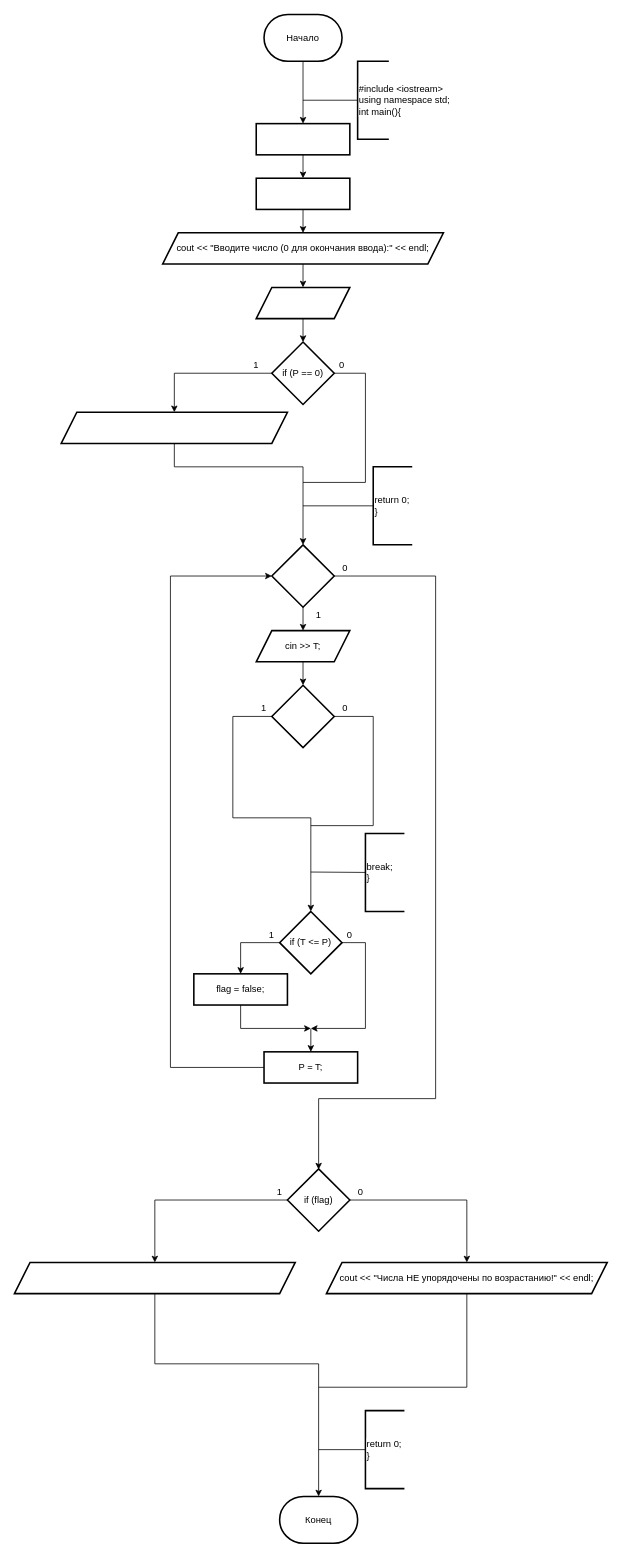
Some shapes in this 621 by 1557 pixel diagram are drawn without their labels. Each missing label, with the centre of its shape:
bool flag = true;: point 302,193
cin >> P;: point 302,302
cout << "Последовательность пустая!" << endl;: point 174,427
cout << "Числа упорядочены по возрастанию!" << endl;: point 154,1277
if (T == 0): point 303,716
int T, P;: point 302,138
while (true): point 303,576
